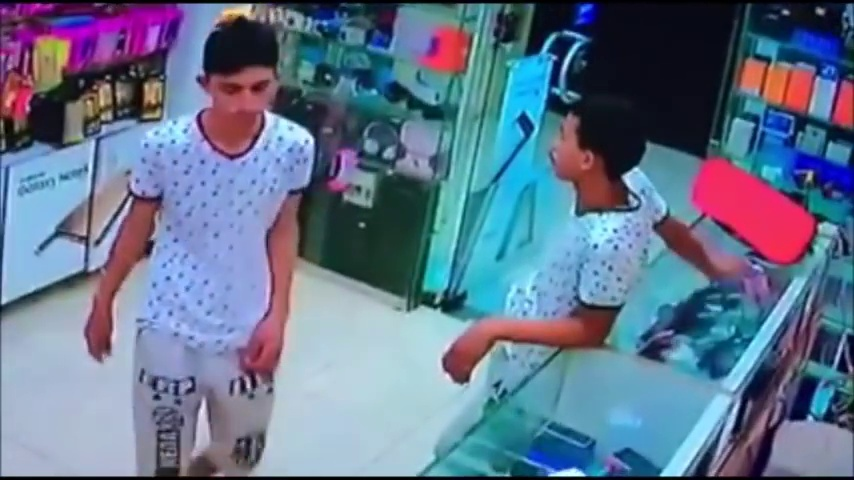face: (200, 75, 273, 131), (545, 116, 598, 187)
